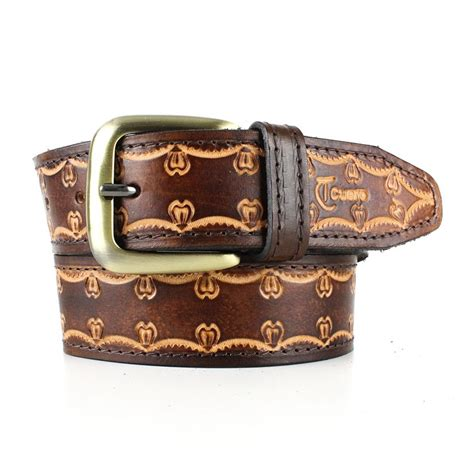cuero: (33, 121, 444, 369)
